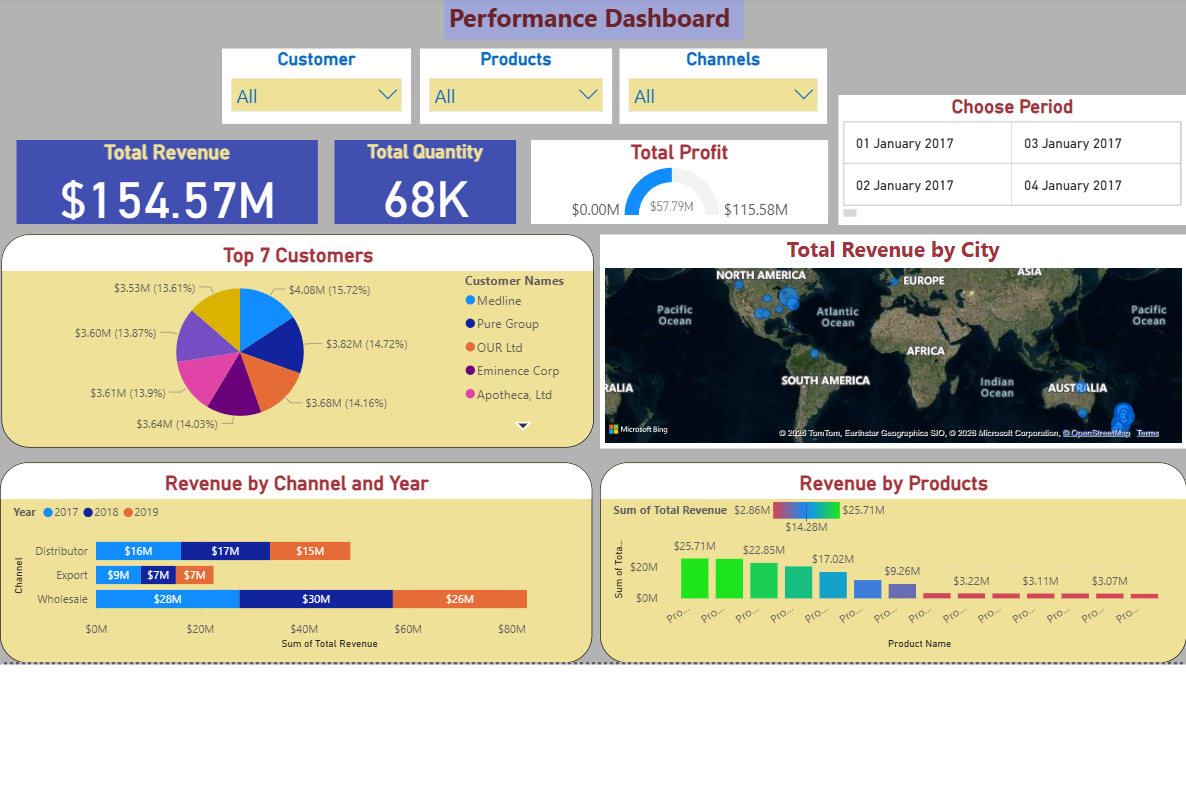

The dashboard page shown, as its layout file describes it:
{"tool":"powerbi","page":{"name":"Page 1","canvas":[1280,720],"ordinal":0},"visuals":[{"type":"barChart","title":"Revenue by Channel and Year","fields":{"Category":["Sales_Data.Channel"],"Y":["Sum(Sales_Data.Total Revenue)"],"Series":["Sales_Data.OrderDate.Variation.Date Hierarchy.Year"]},"box":[0,503.6,639.6,217],"z":0},{"type":"columnChart","title":"Revenue by  Products","fields":{"Category":["Products_Data.Product Name"],"Y":["Sum(Sales_Data.Total Revenue)"]},"box":[647.7,503.6,633.1,217],"z":1000},{"type":"pieChart","title":"Top 7 Customers","fields":{"Category":["Customer_Data.Customer Names"],"Y":["Sum(Sales_Data.Total Revenue)"]},"box":[1.6,257.5,639.6,229.9],"z":2000},{"type":"card","title":"Total Revenue","fields":{"Values":["Sum(Sales_Data.Total Revenue)"]},"box":[17.8,155.4,325.5,90.7],"z":3000},{"type":"map","title":"Total Revenue by City","fields":{"Category":["Regions_Table.City"],"Size":["Sum(Sales_Data.Total Revenue)"]},"box":[647.7,257.5,633.1,229.9],"z":4000},{"type":"card","title":"Total Quantity","fields":{"Values":["Sum(Sales_Data.Order Quantity)"]},"box":[361.1,155.4,195.9,90.7],"z":5000},{"type":"gauge","title":"Total Profit","fields":{"Y":["Sum(Sales_Data.Profit)"]},"box":[573.2,155.4,320.6,90.7],"z":6000},{"type":"advancedSlicerVisual","title":"Choose Period","fields":{"Values":["Sales_Data.OrderDate"]},"box":[905.1,124.7,375.7,121.4],"z":7000},{"type":"slicer","title":"Customer","fields":{"Values":["Customer_Data.Customer Names"]},"box":[241.3,74.5,204,64.8],"z":8000},{"type":"slicer","title":"Products","fields":{"Values":["Products_Data.Product Name"]},"box":[453.4,74.5,207.3,64.8],"z":9000},{"type":"slicer","title":"Channels","fields":{"Values":["Sales_Data.Channel"]},"box":[670.4,74.5,223.5,64.8],"z":10000},{"type":"textbox","box":[1.6,63.1,228.3,92.3],"z":11000}]}

Visuals, with their boxes in screenshot pixels (x1, y1, x2, y2):
"Revenue by Channel and Year" barChart: region(9, 457, 594, 655)
"Revenue by  Products" columnChart: region(601, 457, 1180, 655)
"Top 7 Customers" pieChart: region(11, 232, 595, 442)
"Total Revenue" card: region(26, 139, 323, 222)
"Total Revenue by City" map: region(601, 232, 1180, 442)
"Total Quantity" card: region(339, 139, 518, 222)
"Total Profit" gauge: region(533, 139, 826, 222)
"Choose Period" advancedSlicerVisual: region(836, 111, 1180, 222)
"Customer" slicer: region(230, 65, 416, 124)
"Products" slicer: region(424, 65, 613, 124)
"Channels" slicer: region(622, 65, 826, 124)
textbox: region(11, 55, 219, 139)
